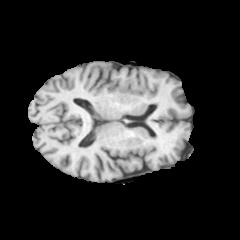glioma: (116, 77, 145, 99)
